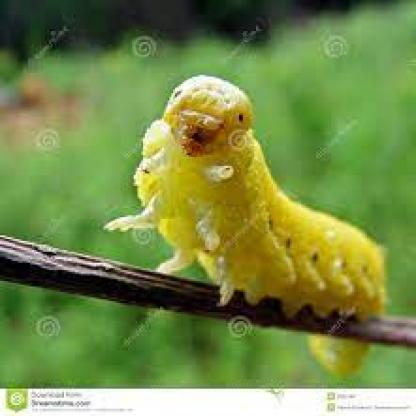sawfly: (99, 73, 386, 373)
